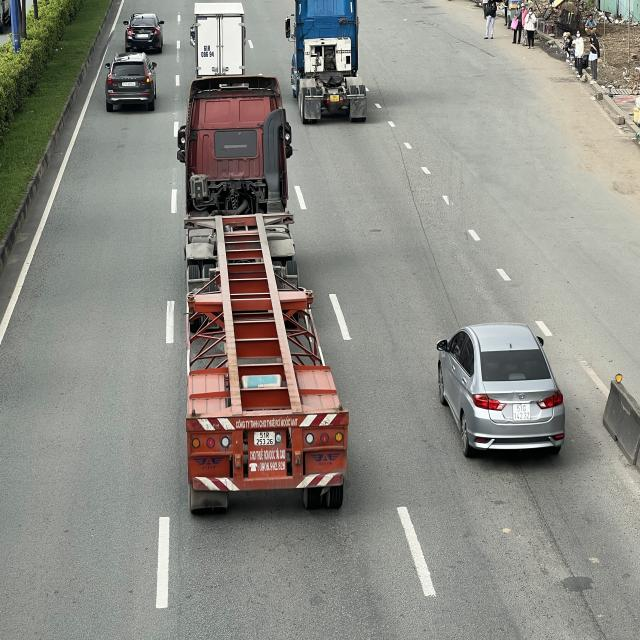car: (436, 324, 566, 456), (104, 53, 159, 108), (121, 9, 166, 53)
container: (178, 79, 350, 510), (285, 0, 370, 117)
truck: (189, 1, 247, 80)
